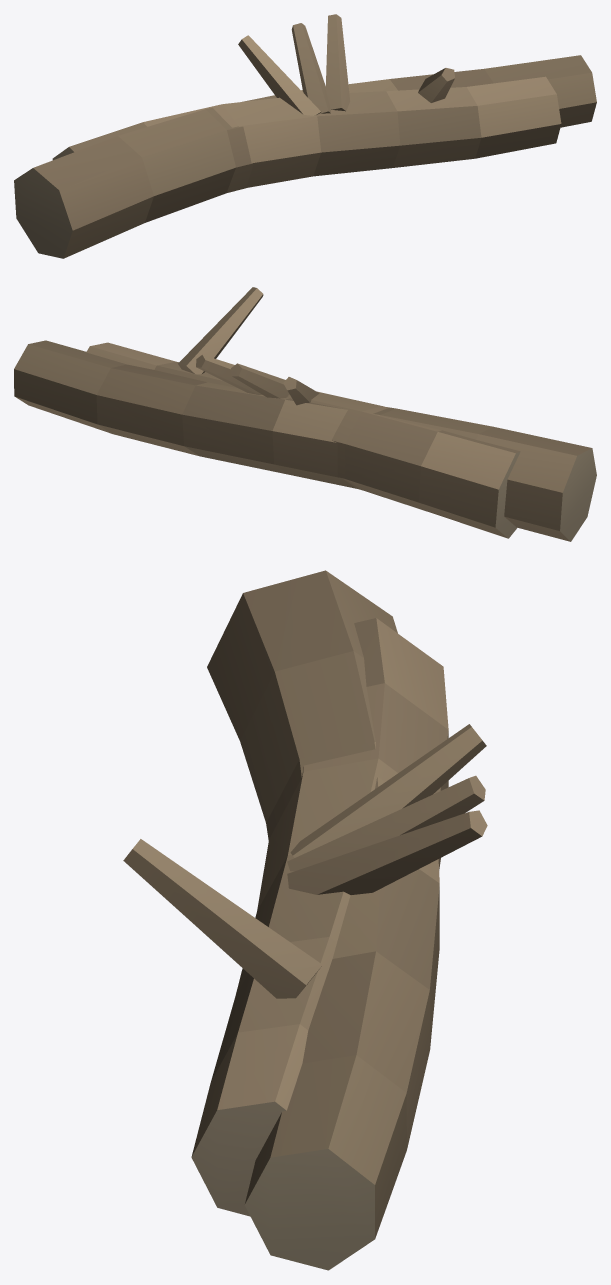
The model's file is driftwood.fbx.
3 renders of one model, top to bottom at view 1: azimuth 30°, elevation 25°; view 2: azimuth 150°, elevation 25°; view 3: azimuth 270°, elevation 25°, orthographic. The views are drawn at different scales.
Visible parts, largest first — view 1: driftwood_0, driftwood_1; view 2: driftwood_0, driftwood_1; view 3: driftwood_0, driftwood_1.
Part boxes in pixels (x1,y1,x2,y2): driftwood_0: [14, 14, 596, 258]; driftwood_1: [52, 23, 561, 187]; driftwood_0: [14, 340, 596, 541]; driftwood_1: [86, 287, 520, 538]; driftwood_0: [207, 570, 487, 1270]; driftwood_1: [123, 618, 485, 1216].
Size of the model in its own units: 2.58 by 0.5887 by 0.7371.
